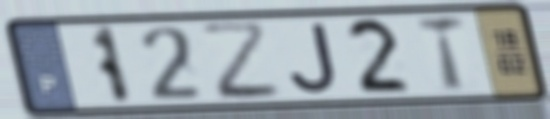1: (88, 22, 137, 108)
2: (344, 15, 417, 98), (138, 24, 206, 104)
J: (286, 20, 341, 96)
T: (413, 13, 470, 96)
Z: (195, 19, 288, 103)
